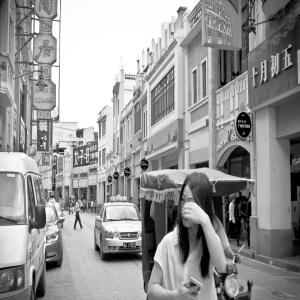Vehicle-registration-plate: (124, 242, 137, 249)
